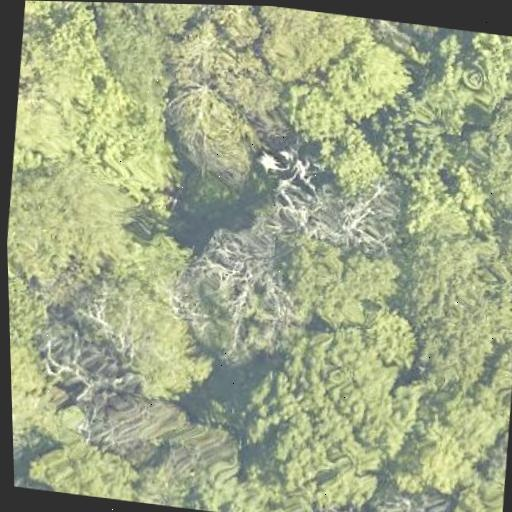tree-top: (238, 333, 411, 512), (382, 201, 512, 391), (242, 142, 401, 265), (5, 155, 138, 282), (180, 226, 302, 363), (283, 17, 419, 139), (10, 7, 114, 161), (153, 422, 316, 512), (88, 281, 210, 398), (288, 235, 402, 333), (244, 5, 367, 87), (91, 103, 185, 209), (170, 84, 265, 186), (404, 401, 497, 505), (93, 9, 182, 110), (26, 437, 156, 504), (8, 266, 60, 414), (378, 101, 452, 195), (453, 88, 512, 205), (10, 328, 64, 453), (434, 30, 512, 116), (313, 121, 393, 200), (124, 231, 199, 313), (119, 3, 223, 36), (481, 317, 512, 423), (204, 5, 269, 53), (443, 464, 507, 512), (32, 1, 122, 18)
